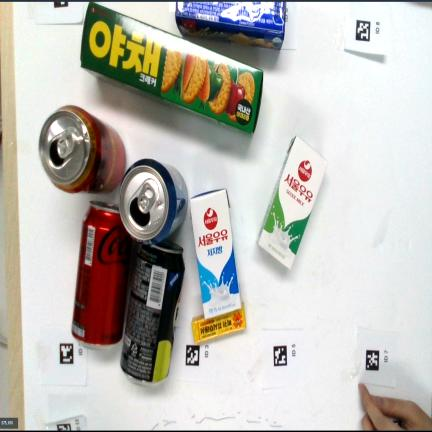can_coke_decaf: (39, 106, 125, 193)
can_coke_zero: (72, 201, 131, 347)
can_pepsi: (119, 159, 188, 244)
can_pepsi_zero: (120, 240, 185, 384)
cracker_ace: (175, 1, 286, 49)
cracker_vege: (81, 2, 263, 134)
gum_yellow: (192, 303, 246, 343)
milk_blue: (190, 189, 241, 319)
milk_green: (258, 136, 327, 269)
